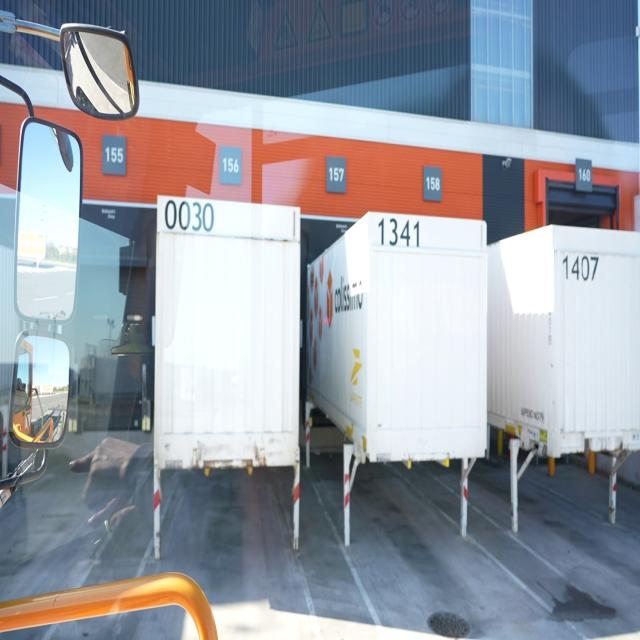Code: (164, 193, 218, 239), (372, 212, 426, 256), (558, 249, 605, 289)
